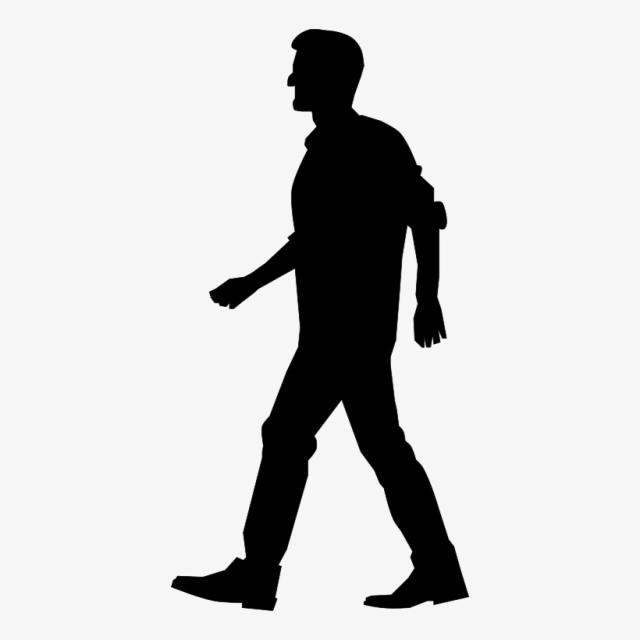Person: (168, 28, 470, 611)
